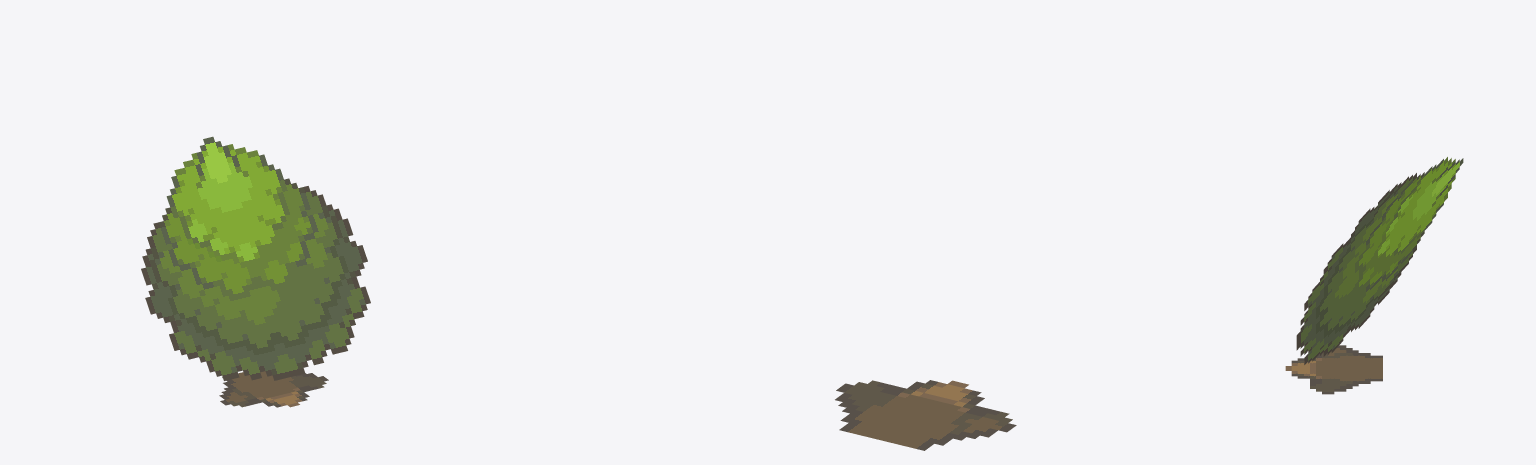
3 views of the same model, side by side, from view 1: azimuth 30°, elevation 25°; view 2: azimuth 150°, elevation 25°; view 3: azimuth 270°, elevation 25° (orthographic). The views are drawn at different scales.
Bounding box in the file's own units: 4 × 3.08 × 2.55.
2 materials, 2 textured.
